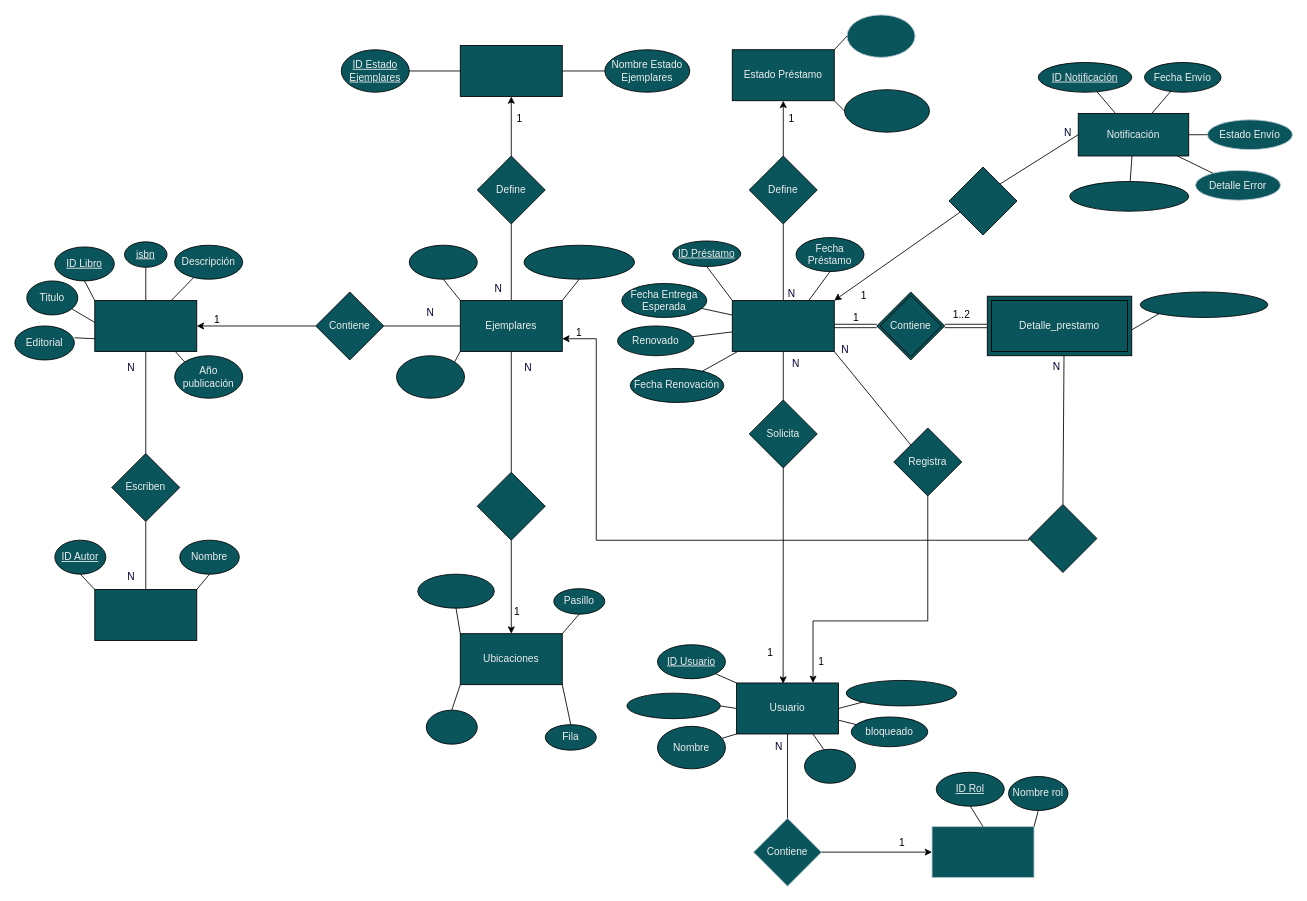
Image size: 1307x901. Some labels were removed from this diagram. Each missing label, with the box of its shape:
Aparece en: (1028, 504, 1097, 572)
Autores: (94, 589, 197, 640)
Correo: (845, 680, 957, 706)
Código de Barras: (523, 244, 635, 279)
Estado Ejemplares: (459, 45, 562, 96)
Estante: (425, 709, 477, 744)
Fecha Adquisición: (396, 355, 465, 398)
Fecha Entrega Avisada: (1069, 181, 1189, 211)
Fecha_devolución_real: (1139, 291, 1268, 317)
Genera: (948, 166, 1017, 235)
ID Ejemplar: (408, 244, 477, 279)
ID Estado Préstamo: (846, 14, 915, 57)
ID Ubicaciones: (417, 573, 494, 608)
Libros: (94, 300, 197, 351)
Matrícula: (626, 692, 720, 719)
Nombre Estado Préstamo: (844, 89, 929, 132)
Password: (804, 748, 856, 783)
Préstamo: (731, 300, 834, 351)
Rol: (931, 826, 1034, 878)
Se Ubica: (476, 471, 545, 540)
